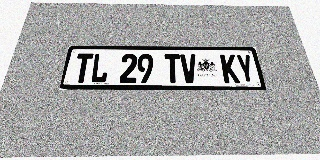2: (120, 54, 137, 83)
9: (137, 54, 153, 83)
K: (220, 54, 240, 83)
L: (90, 53, 110, 83)
T: (72, 53, 94, 83), (164, 54, 181, 83)
V: (180, 54, 198, 83)
Y: (235, 54, 257, 83)
